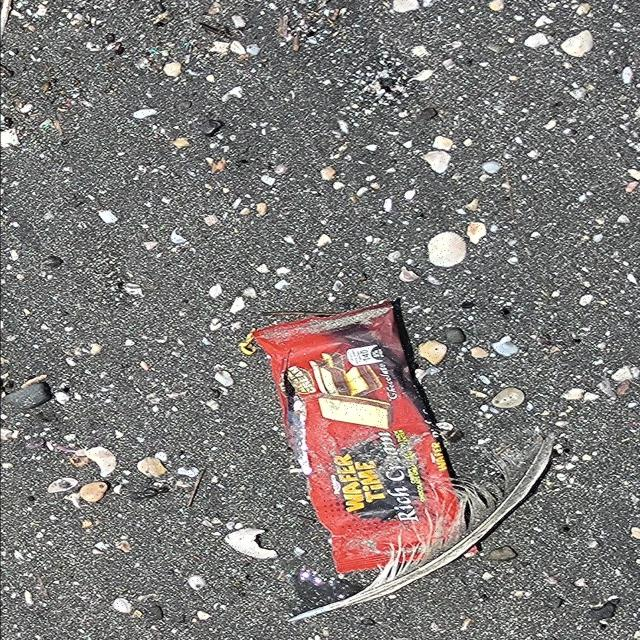plastic_waste: (251, 300, 480, 574)
